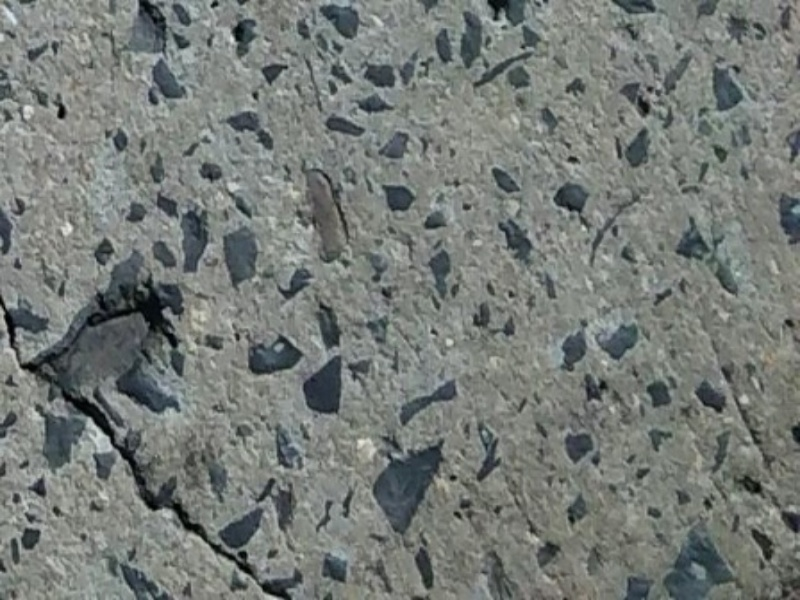crack: (9, 286, 280, 592)
